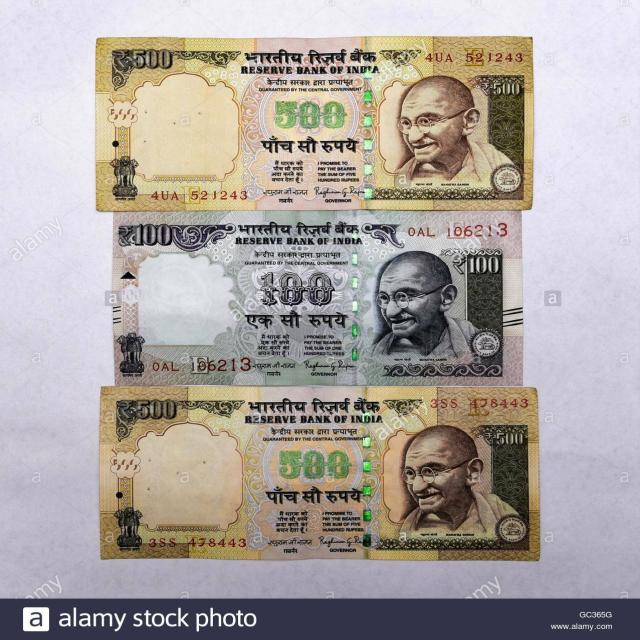100IndianRupees: (112, 214, 526, 384)
